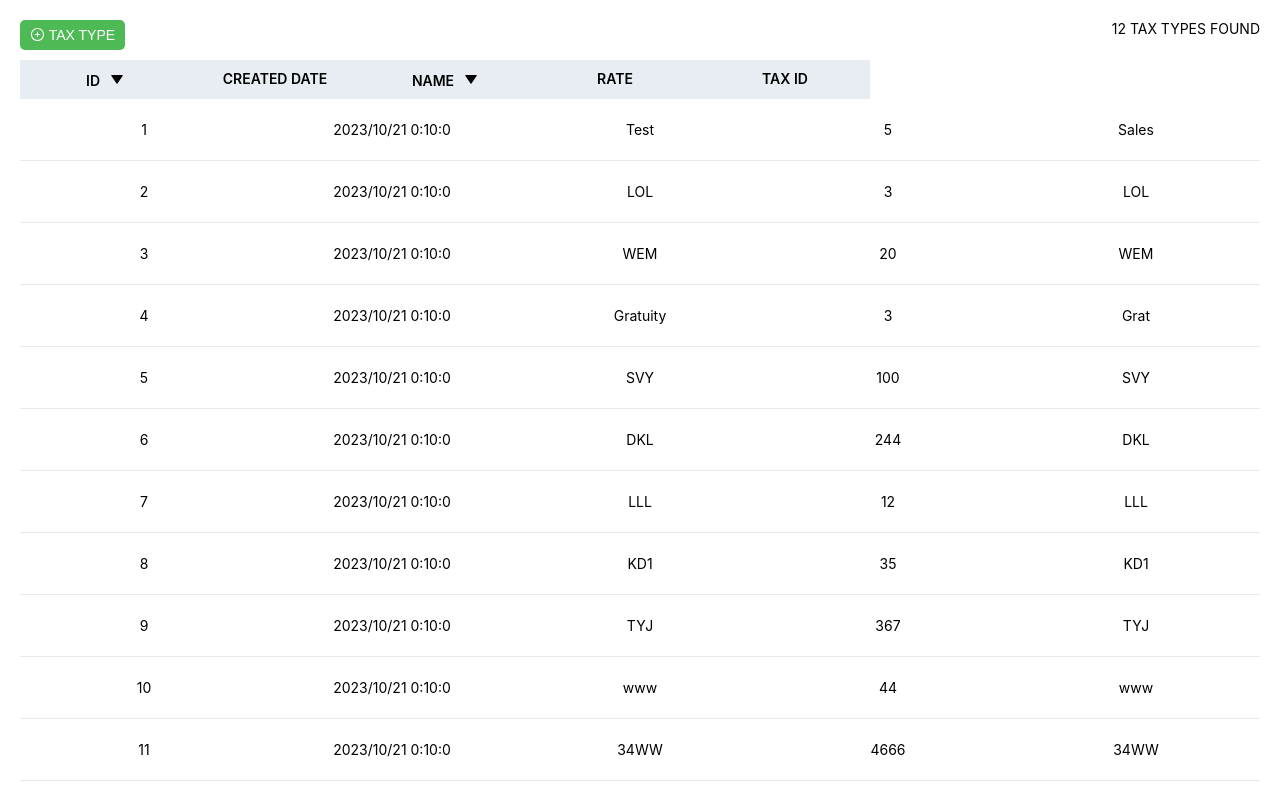
it: Tax Type List › should fail to add
Click the button with aria-label "add-tax-type" at {"x": 73, "y": 35}, box [20,20,125,50]
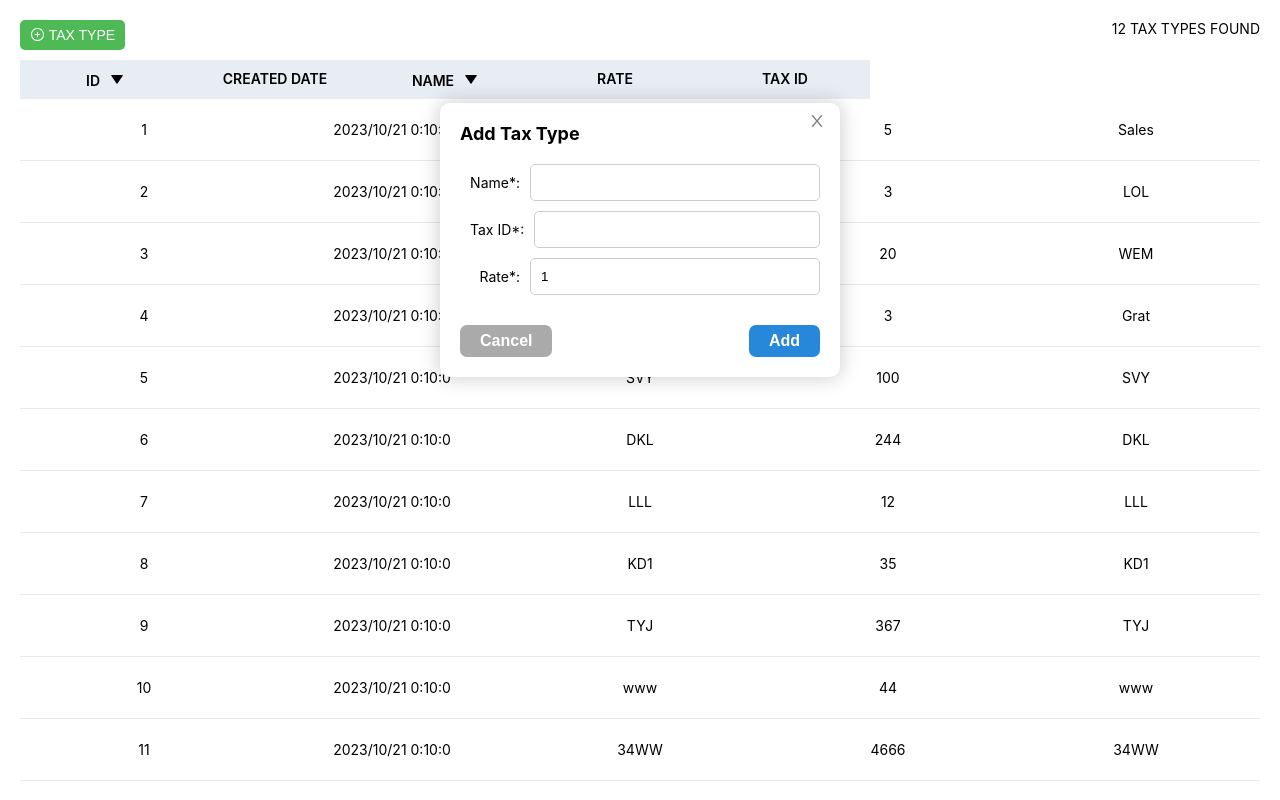
Type "BBB" into the field named "input-field" next to "Name*:" at {"x": 675, "y": 182}, box [530,164,820,201]
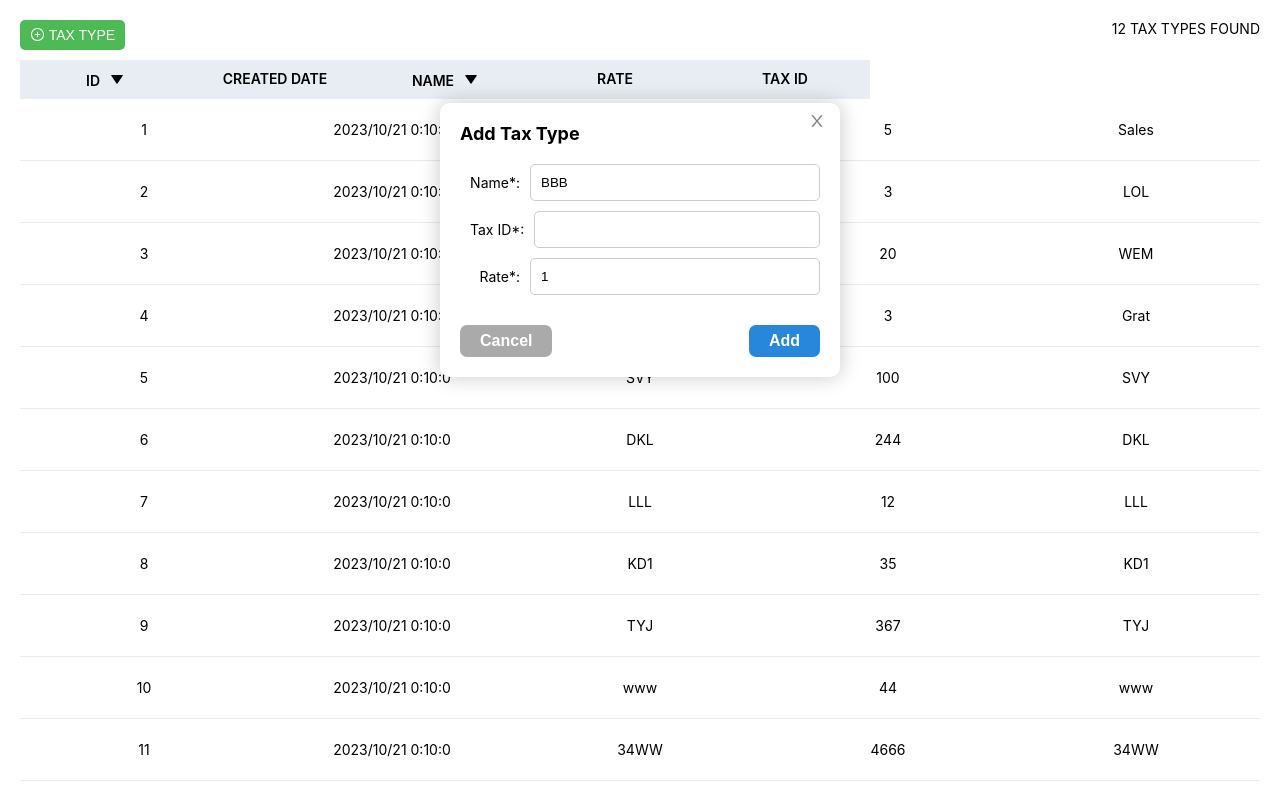
Type "BBB" into the field named "input-field" next to "Tax ID*:" at {"x": 677, "y": 230}, box [534,211,820,248]
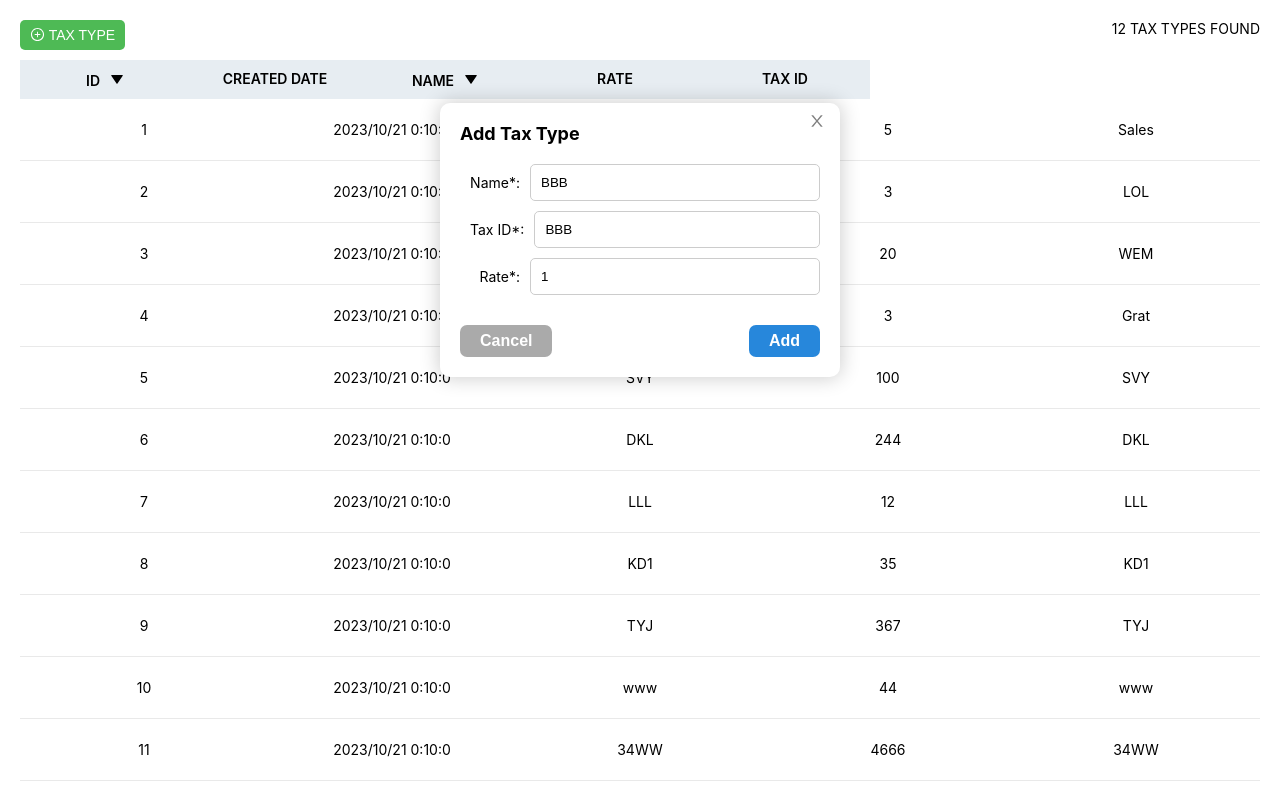
Replace the text in the number field named "input-field" with "3" at {"x": 675, "y": 276}, box [530,258,820,295]
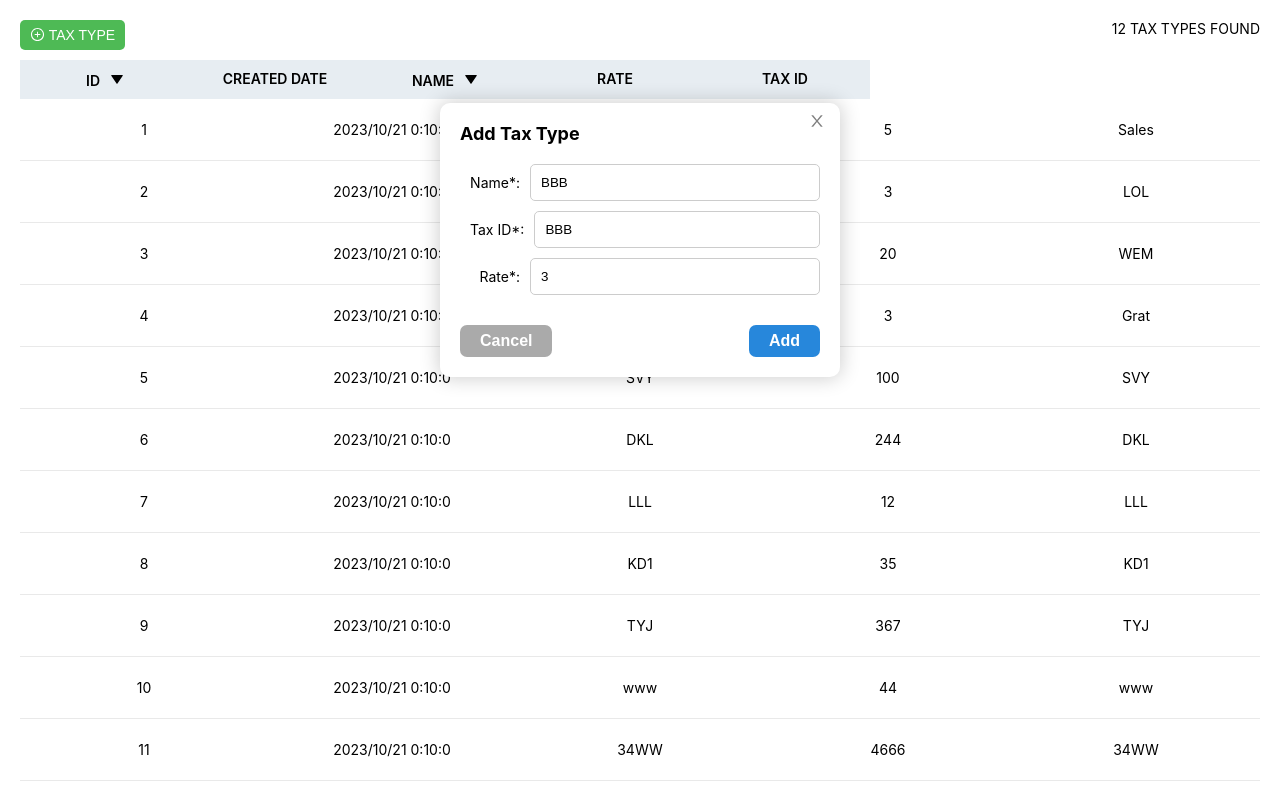
Click the button with aria-label "primary-button" at {"x": 784, "y": 341}, box [749,325,820,357]
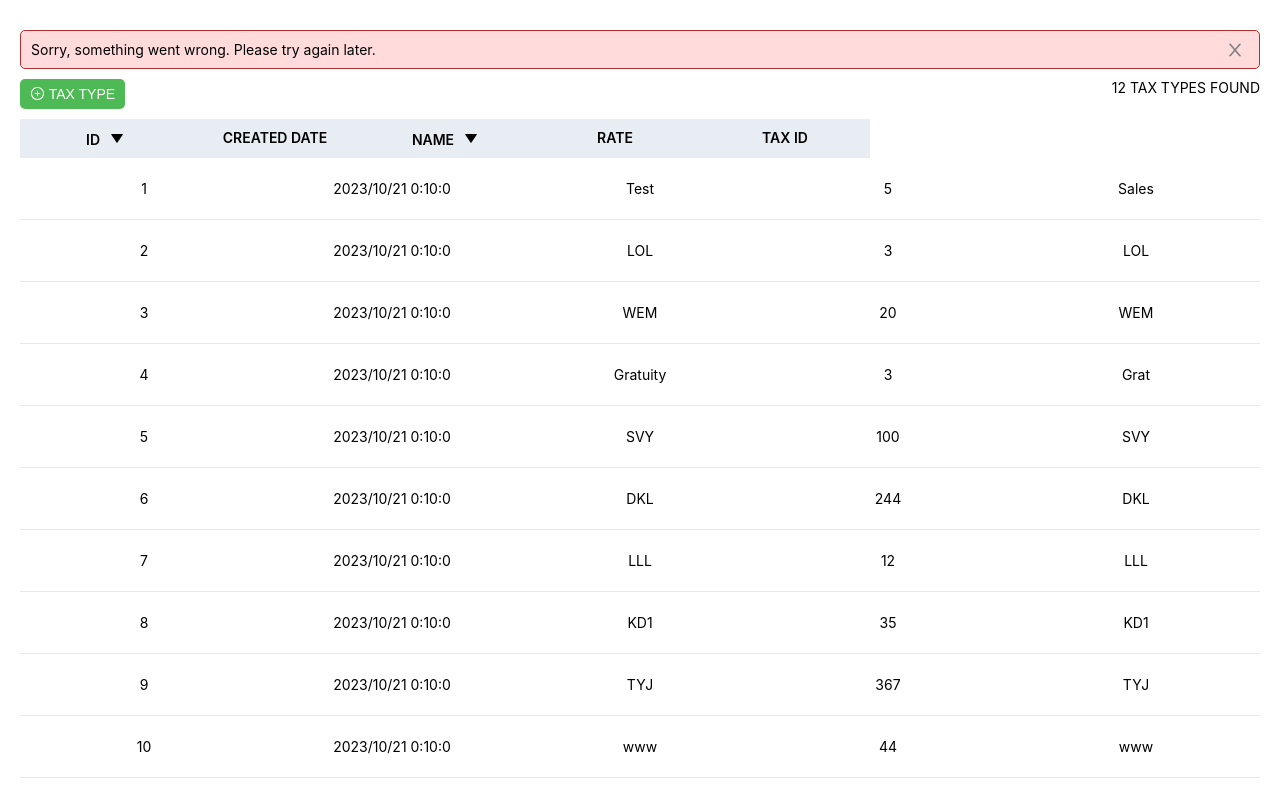
expect the element named "notification-wrapper" is shown: met, box [20,30,1260,69]
